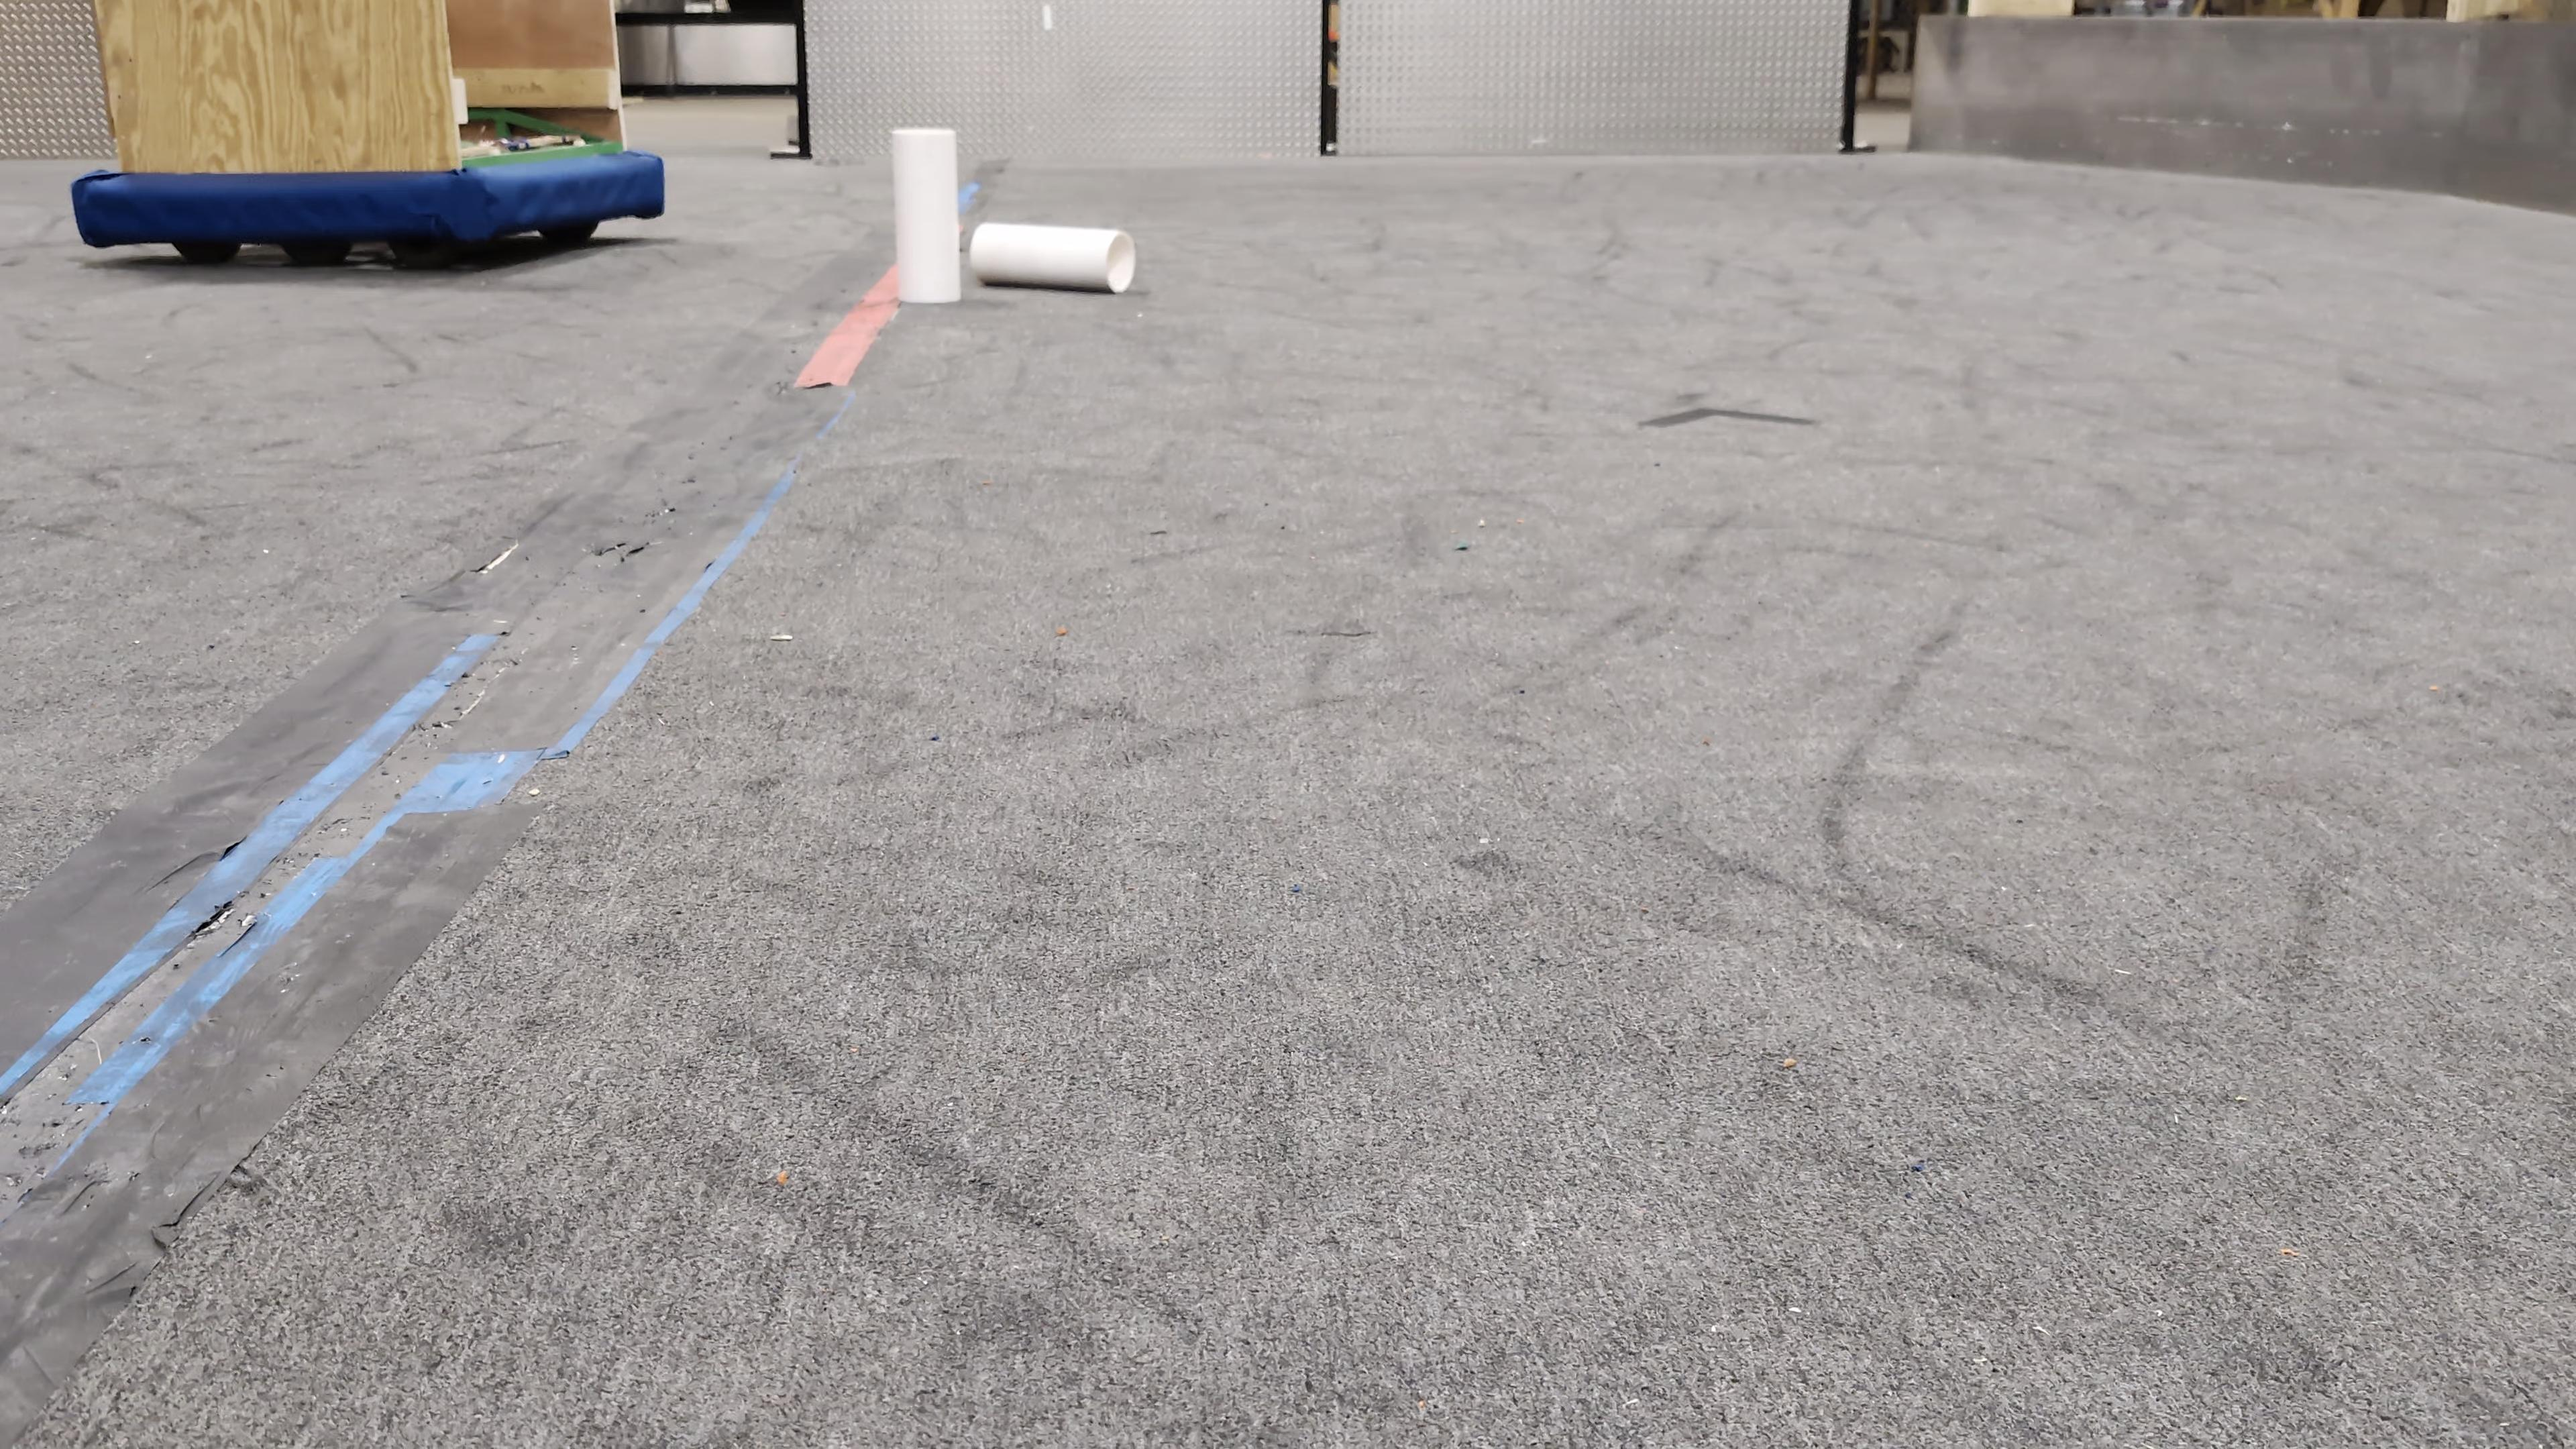coral: (964, 218, 1138, 294), (895, 127, 962, 304)
